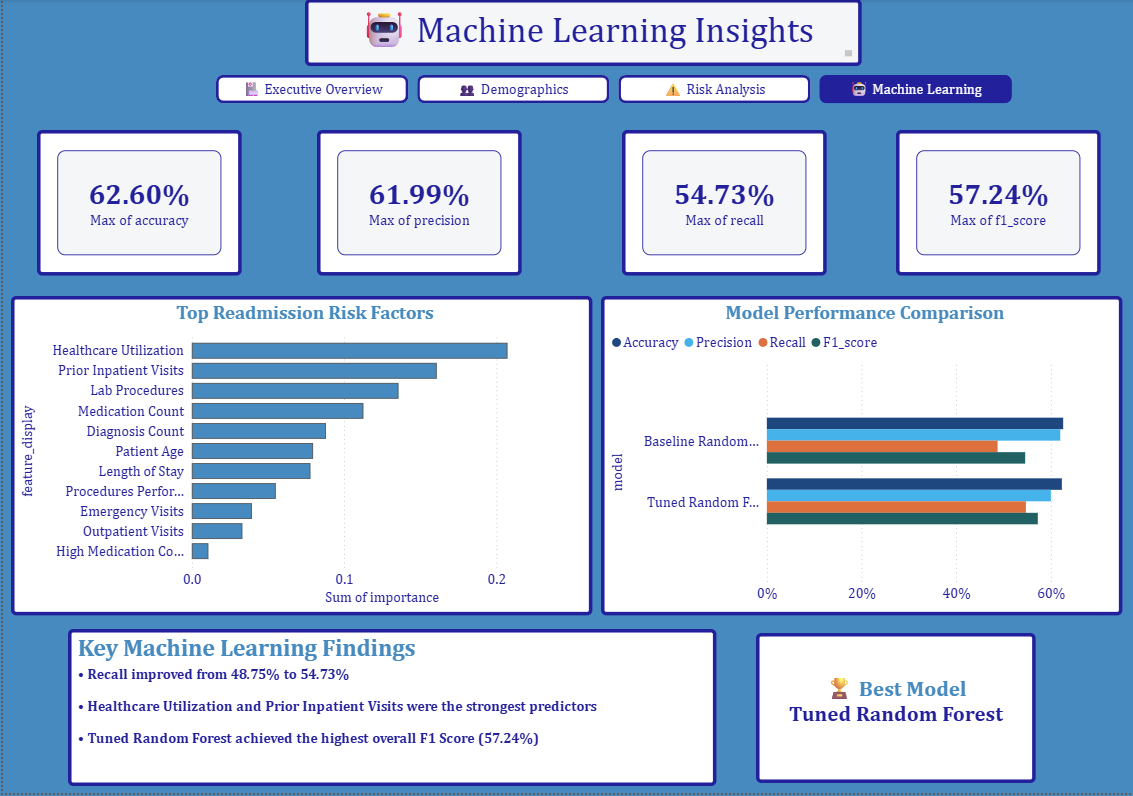

What the dashboard file says about the page in this screenshot:
{"tool":"powerbi","page":{"name":"🤖 Machine Learning","canvas":[1280,900],"ordinal":3},"visuals":[{"type":"barChart","title":"Top Readmission Risk Factors","fields":{"Y":["Sum(Feature_Importance.importance)"],"Category":["Feature_Importance.feature_display"]},"box":[9.1,336.6,658.6,361.6],"z":0},{"type":"clusteredBarChart","title":"Model Performance Comparison","fields":{"Category":["Model_Performance.model"],"Y":["Sum(Model_Performance.accuracy)","Sum(Model_Performance.precision)","Sum(Model_Performance.recall)","Sum(Model_Performance.f1_score)"]},"box":[677.8,336.6,590.6,361.6],"z":1000},{"type":"textbox","title":"🤖  Machine Learning Insights","box":[342.4,0,631.4,75.9],"z":2000},{"type":"pageNavigator","box":[241.5,86.3,902.2,32.8],"z":3000},{"type":"cardVisual","fields":{"Data":["Max(Model_Performance.accuracy)"]},"box":[38.5,148.5,232.4,165.5],"z":4000},{"type":"cardVisual","fields":{"Data":["Max(Model_Performance.f1_score)"]},"box":[1012.2,148.5,232.4,165.5],"z":5000},{"type":"cardVisual","fields":{"Data":["Max(Model_Performance.recall)"]},"box":[701.6,148.5,232.4,165.5],"z":6000},{"type":"cardVisual","fields":{"Data":["Max(Model_Performance.precision)"]},"box":[355.9,148.5,232.4,165.5],"z":7000},{"type":"textbox","title":"Key Machine Learning Findings","box":[73.7,714.1,734.5,178],"z":8000},{"type":"textbox","box":[853.5,718.6,317.4,170],"z":8001}]}

Visuals, with their boxes in screenshot pixels (x1, y1, x2, y2), scaled from the page's 1280x900 canvas onto the 1133x796 screenshot:
"Top Readmission Risk Factors" barChart: locate(8, 298, 591, 618)
"Model Performance Comparison" clusteredBarChart: locate(600, 298, 1123, 618)
"🤖  Machine Learning Insights" textbox: locate(303, 0, 862, 67)
pageNavigator: locate(214, 76, 1012, 105)
cardVisual - Max(Model_Performance.accuracy): locate(34, 131, 240, 278)
cardVisual - Max(Model_Performance.f1_score): locate(896, 131, 1102, 278)
cardVisual - Max(Model_Performance.recall): locate(621, 131, 827, 278)
cardVisual - Max(Model_Performance.precision): locate(315, 131, 521, 278)
"Key Machine Learning Findings" textbox: locate(65, 632, 715, 789)
textbox: locate(755, 636, 1036, 786)
